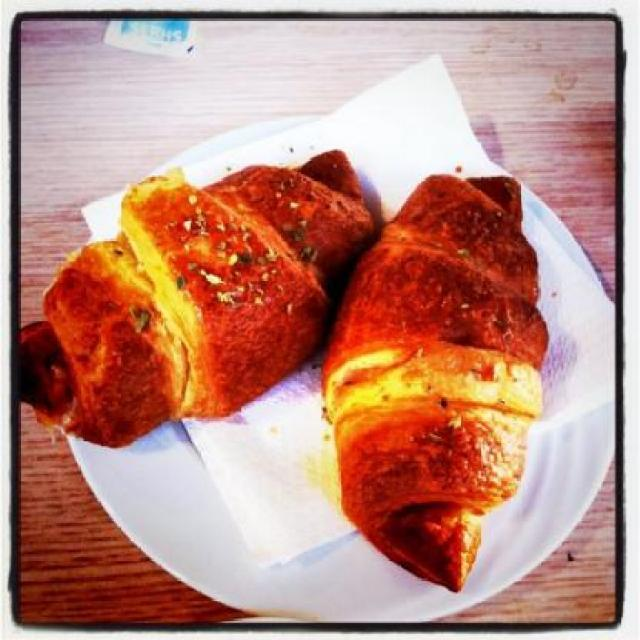Croissant: (22, 150, 374, 447), (311, 177, 547, 574)
